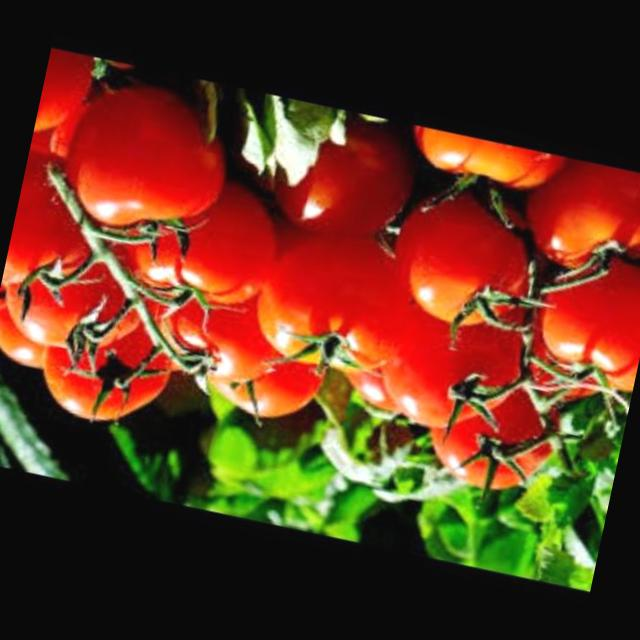Tomato: (30, 64, 243, 266), (232, 211, 424, 405), (106, 163, 285, 329), (380, 178, 554, 346), (344, 298, 526, 445), (18, 301, 188, 444), (268, 115, 427, 255), (137, 262, 294, 400), (517, 241, 640, 409), (1, 236, 154, 369), (414, 377, 557, 508), (517, 153, 640, 299), (0, 178, 113, 324), (205, 321, 332, 439), (407, 127, 572, 211)
